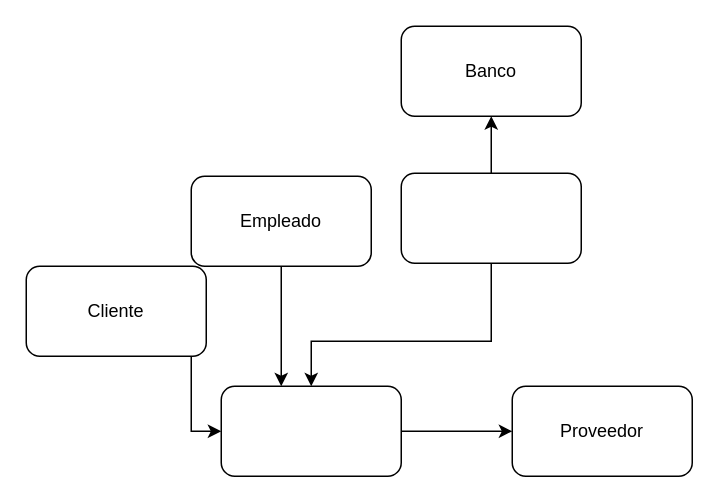
Some shapes in this 719 by 503 pixel diagram are drawn without their labels. The box of each missing label's shape, as (x1, y1, x2, y2) in pixels:
Admin: (400, 172, 581, 263)
ERP_obleas_la_villa: (220, 385, 401, 476)
